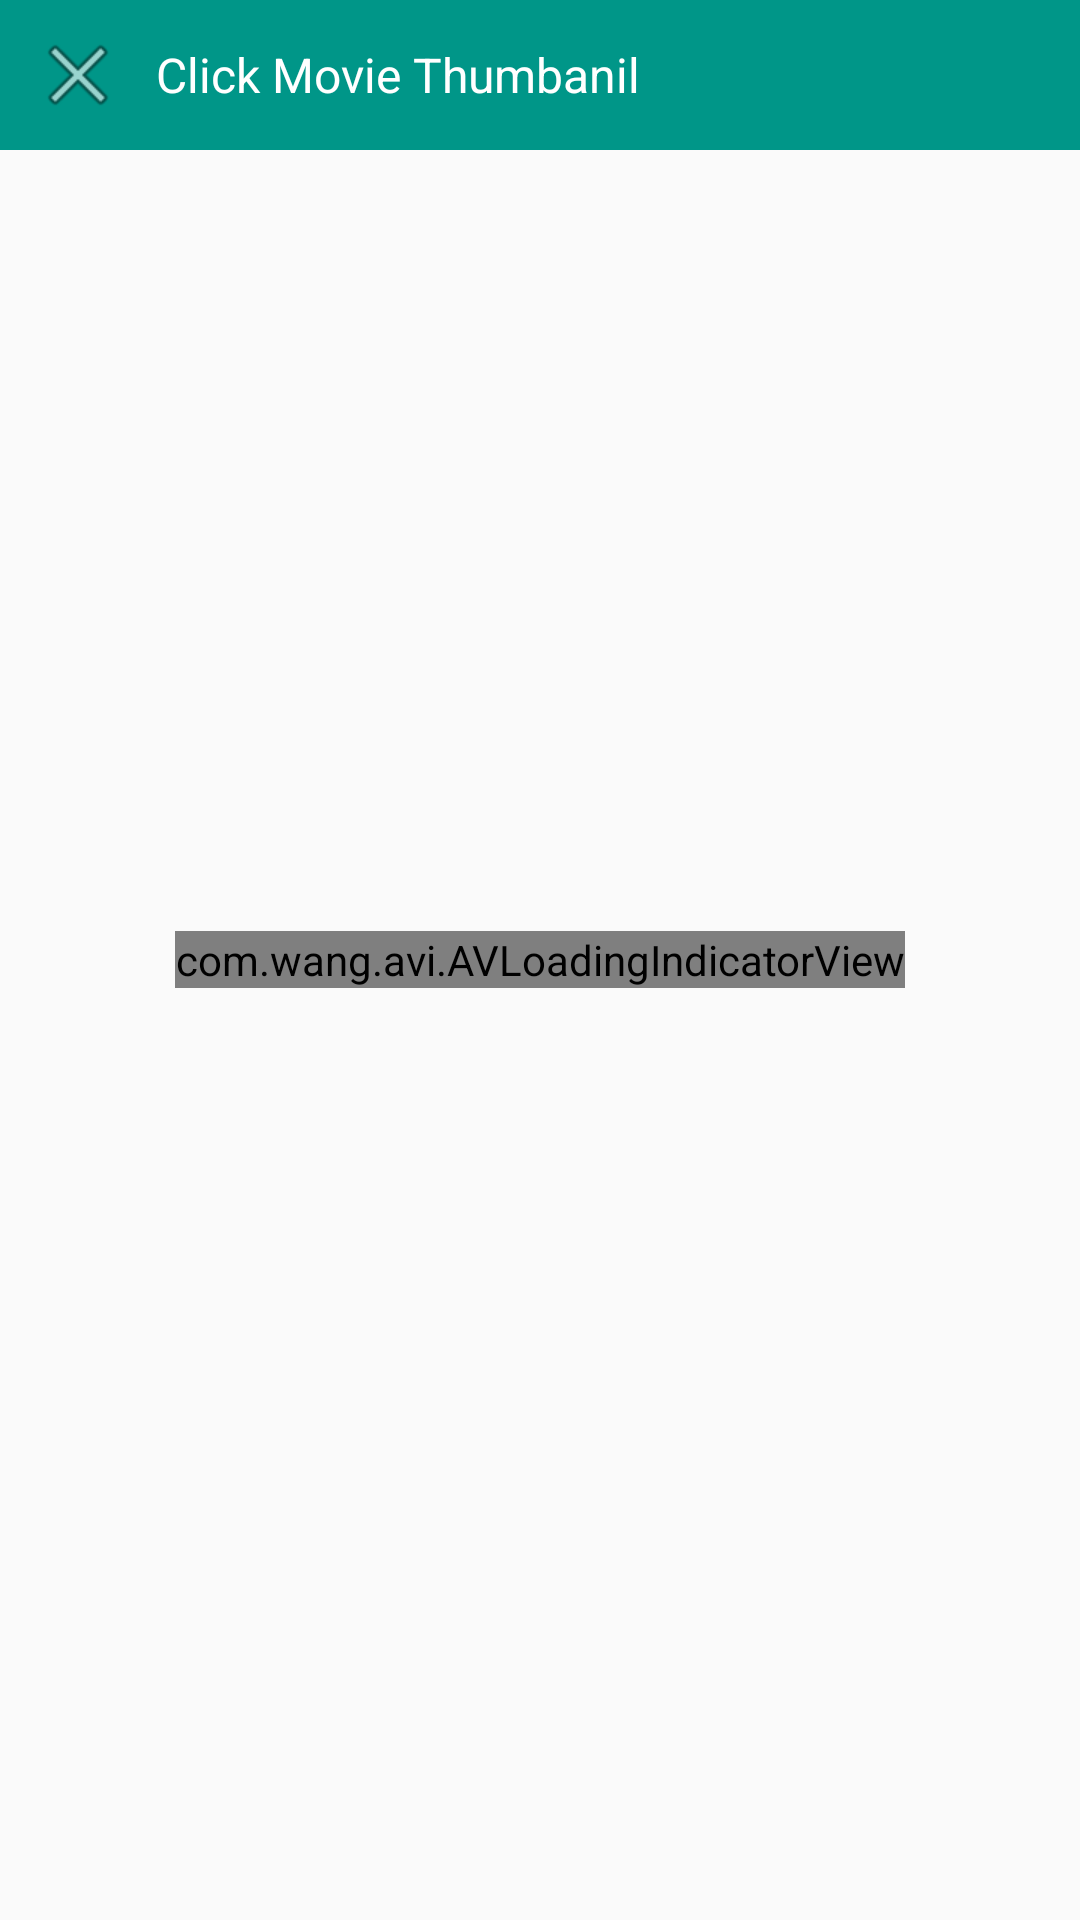

Named icons in this screenshot (1080x1920) and their bounding boxes, box(x1, y1, x2, y2):
close clear cancel: box(48, 45, 108, 105)
